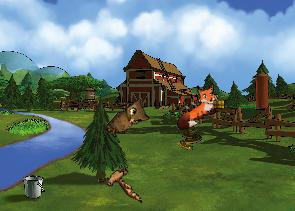eagle: (95, 161, 147, 203)
fox: (165, 78, 227, 133)
owl: (103, 94, 155, 147)
